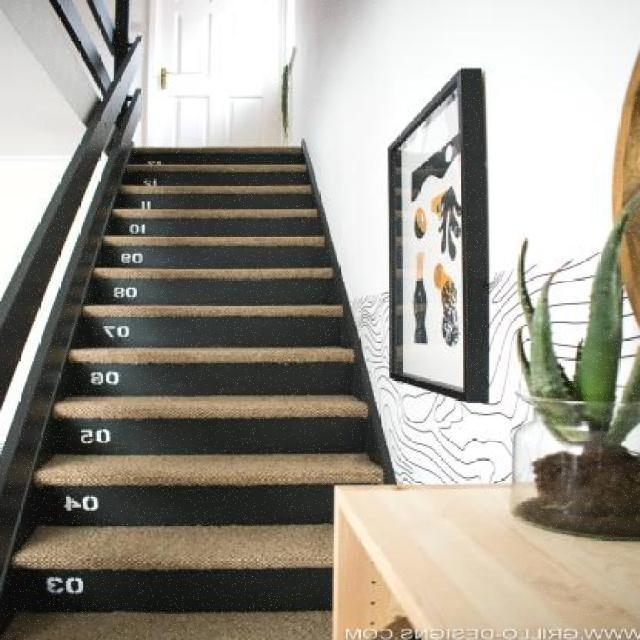stair: (1, 91, 412, 640)
